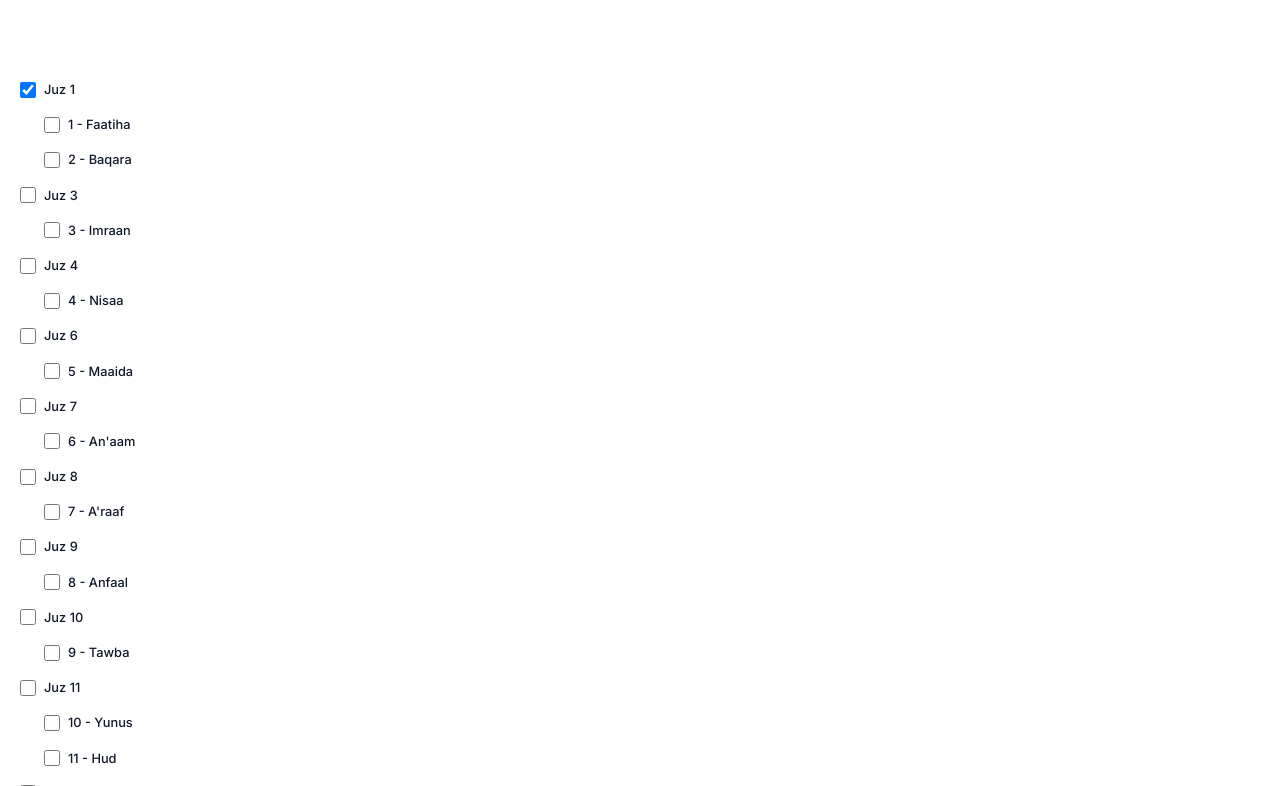
Test case: Add Quran card form › Submitting › Wihout juz › should not reset form when response is 500 and display error message
The width and height of the screenshot is (1280, 786).
Click the checkbox with test id "quran-checkbox-input": (52,160) [44, 152, 60, 168]
(page scrolled)
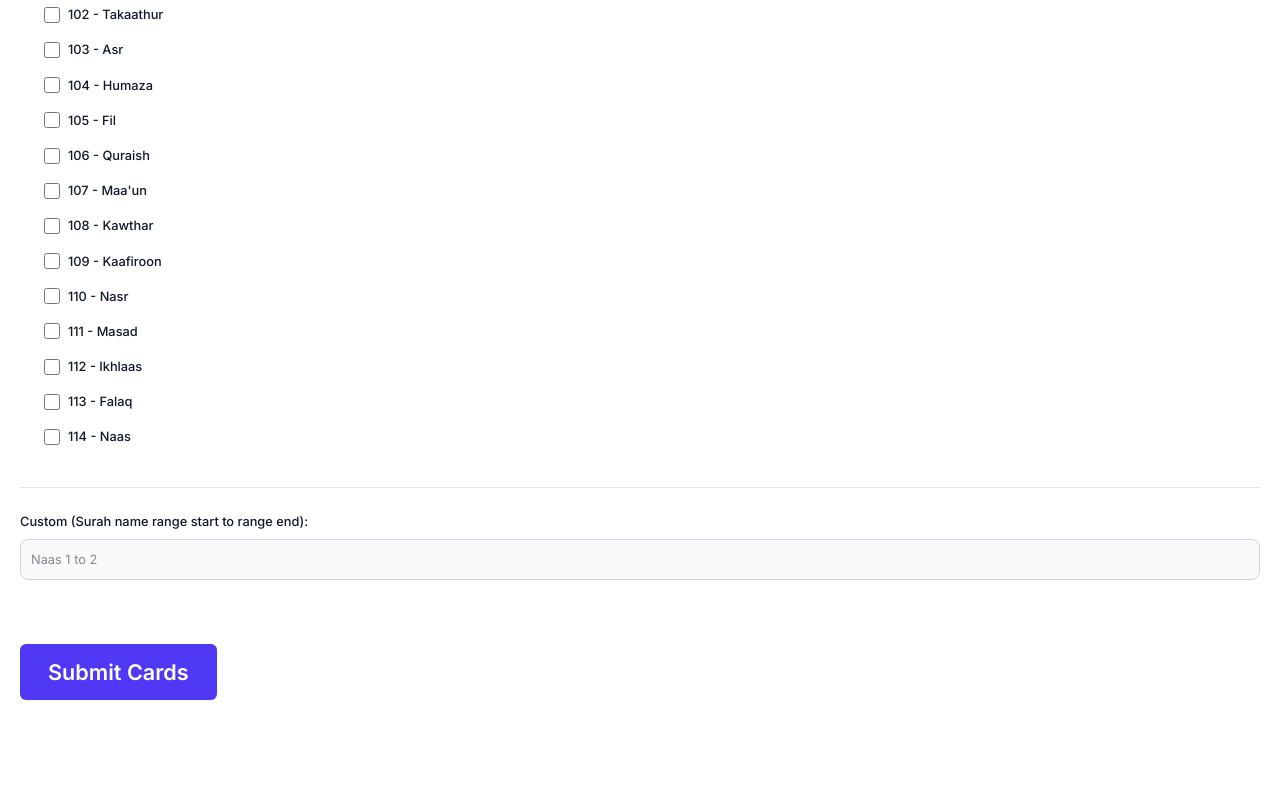
Click the button with test id "add-cards-submit-button": (118,672) [20, 644, 217, 700]
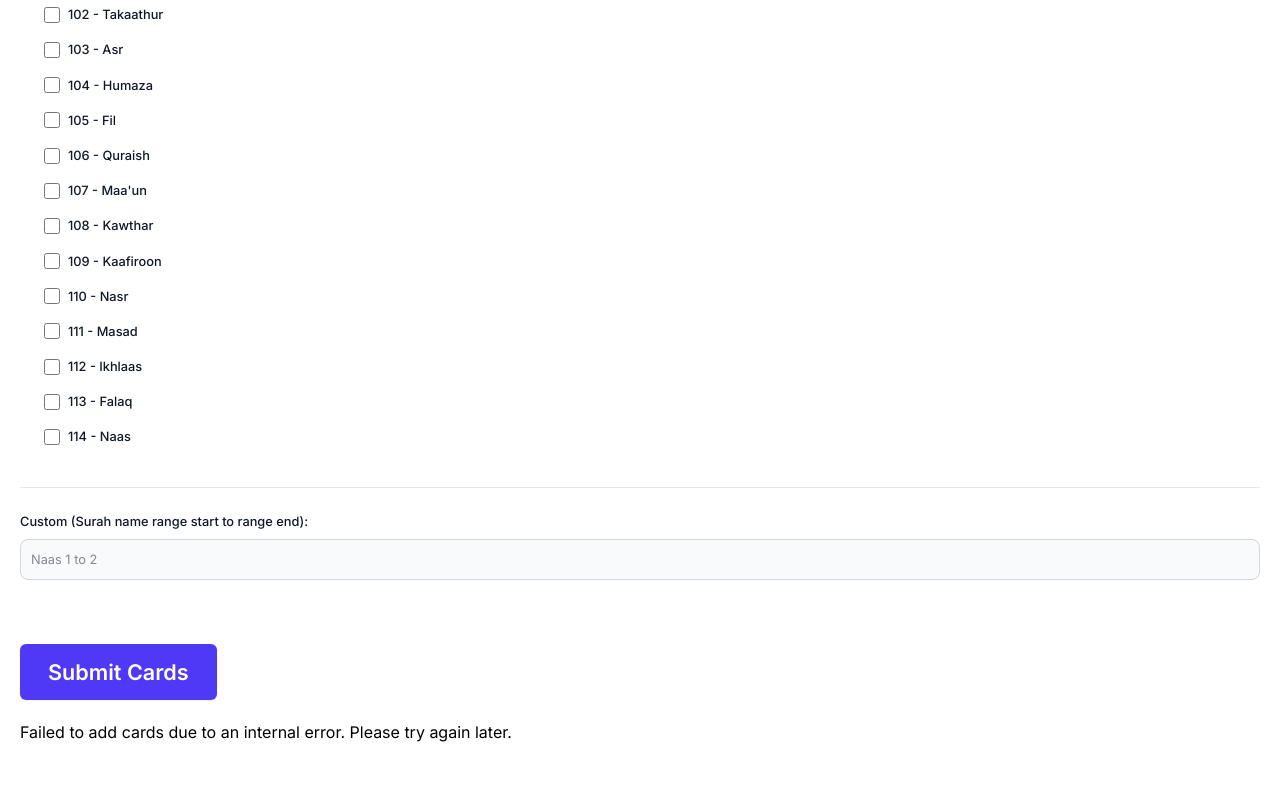
Expected: the text "Failed to add cards due to an internal error. Please try again later." is shown, [20, 722, 512, 742]
